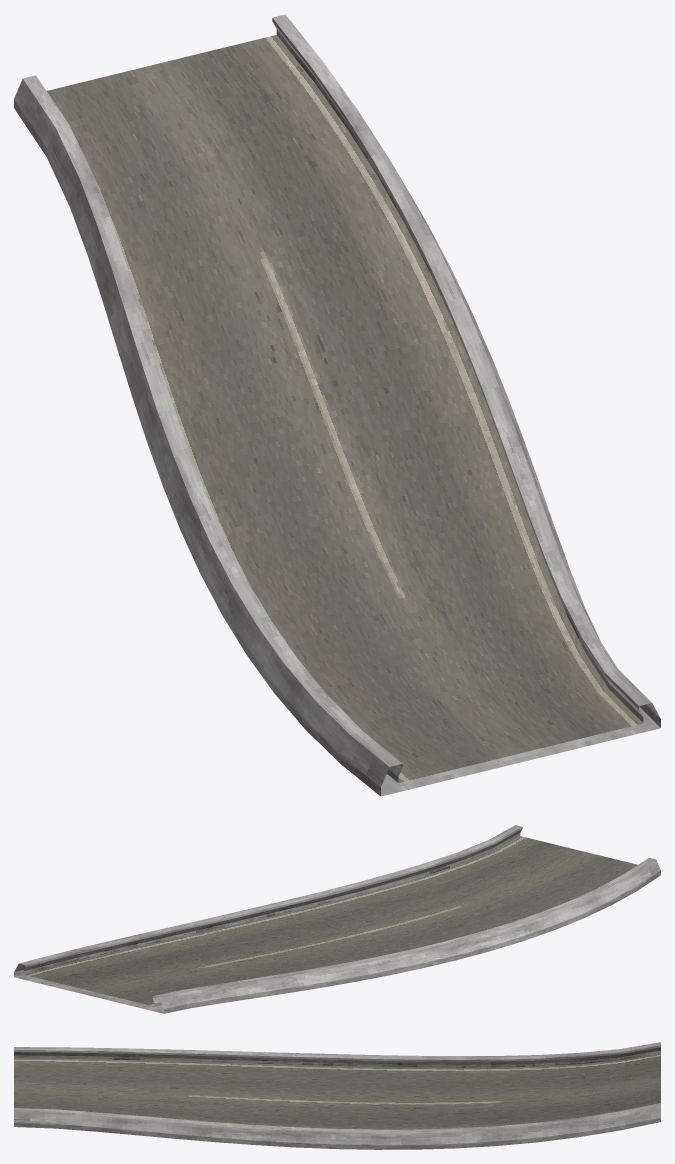
File: chicane-right1x4.glb
3 views of the same model, one above another, from view 1: azimuth 30°, elevation 25°; view 2: azimuth 150°, elevation 25°; view 3: azimuth 270°, elevation 25° (orthographic). The views are drawn at different scales.
Parts seen in each view (by area): view 1: road-Chicane-Flat-BiSlopeUp-Up2-Right1-Size4; view 2: road-Chicane-Flat-BiSlopeUp-Up2-Right1-Size4; view 3: road-Chicane-Flat-BiSlopeUp-Up2-Right1-Size4.
Part boxes in pixels (x1,y1,x2,y2): road-Chicane-Flat-BiSlopeUp-Up2-Right1-Size4: (14,14,660,796); road-Chicane-Flat-BiSlopeUp-Up2-Right1-Size4: (14,825,660,1013); road-Chicane-Flat-BiSlopeUp-Up2-Right1-Size4: (14,1042,660,1149).
Size of the model in its own units: 2 by 0.5938 by 4.
Materials: 2 (2 with a texture image).
